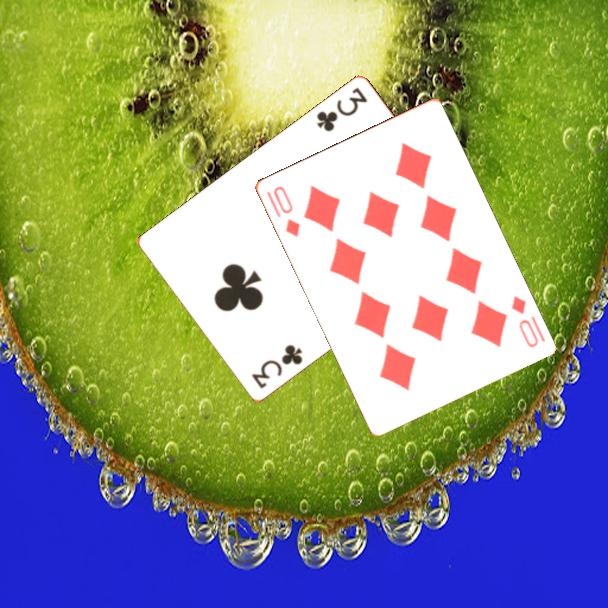c03: (248, 341, 306, 392), (313, 84, 370, 135)
d10: (507, 292, 548, 350), (269, 182, 303, 240)
